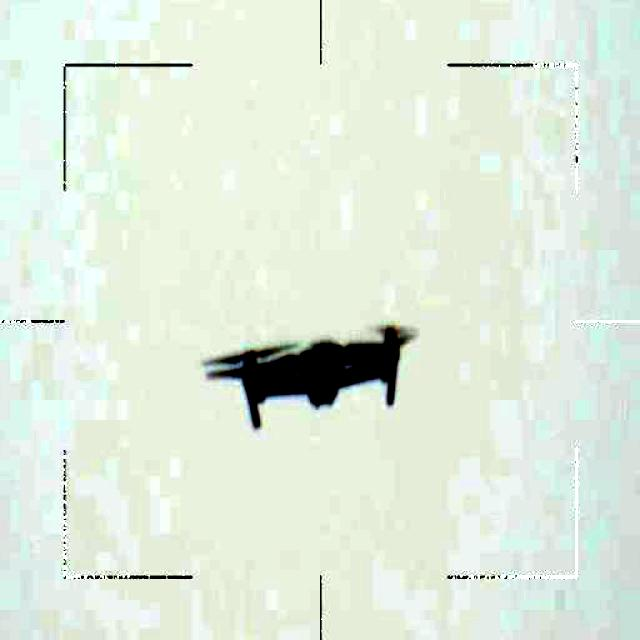bird: (208, 306, 429, 435)
